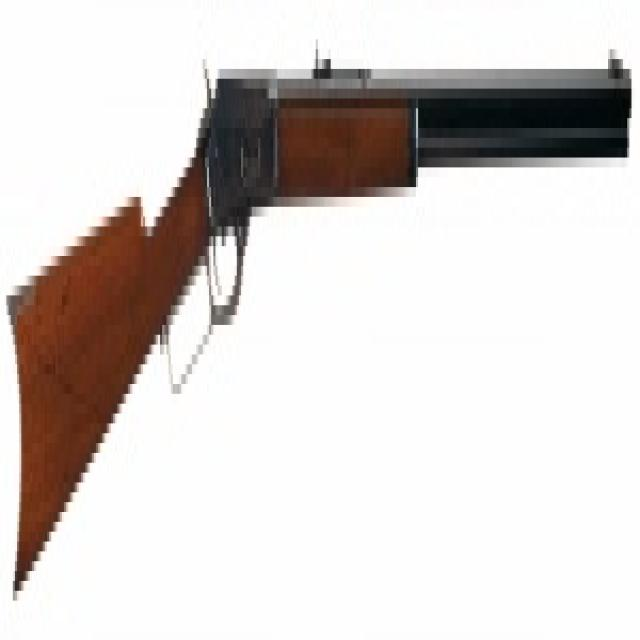rifle: (5, 19, 640, 614)
